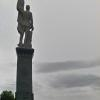Statue: (9, 1, 40, 53)
